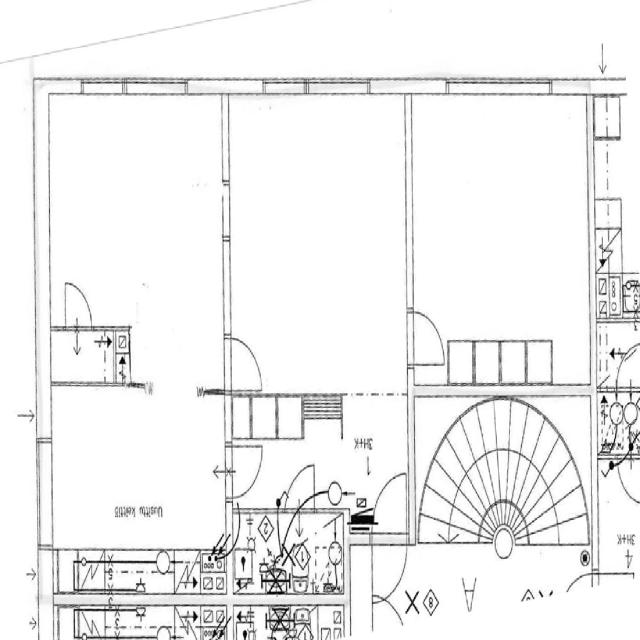door: (369, 494, 409, 606), (371, 468, 409, 542), (409, 304, 448, 374), (227, 329, 265, 396), (230, 441, 264, 502), (62, 276, 94, 334), (282, 458, 318, 508), (617, 453, 640, 506), (615, 345, 639, 391)
zone: (224, 88, 410, 402), (46, 81, 230, 382), (409, 87, 593, 387), (418, 398, 595, 534), (592, 89, 640, 310), (233, 512, 347, 596), (52, 330, 116, 385), (599, 388, 638, 460), (276, 395, 305, 441)
